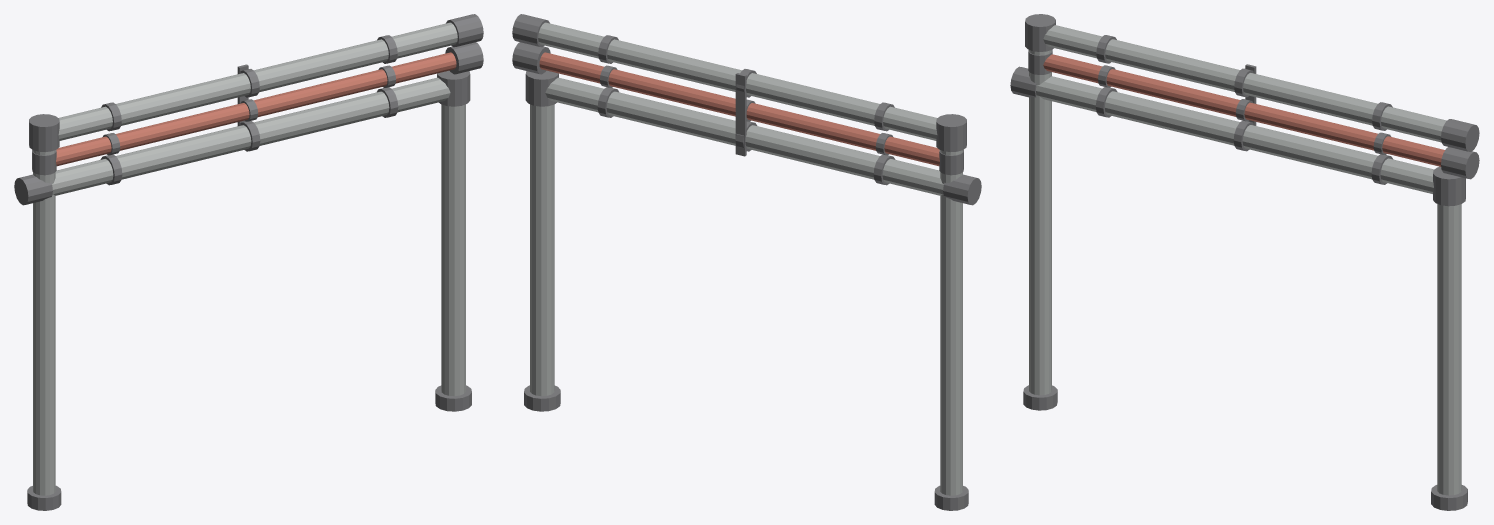
Rendered from dm_wallpipebend.glb.
3 views of the same model, side by side, from view 1: azimuth 30°, elevation 25°; view 2: azimuth 150°, elevation 25°; view 3: azimuth 330°, elevation 25° (orthographic).
Visible parts, largest first — view 1: dm_wallpipebend; view 2: dm_wallpipebend; view 3: dm_wallpipebend.
Part boxes in pixels (left/top/right/bottom): dm_wallpipebend: left=14, top=14, right=483, bottom=510; dm_wallpipebend: left=512, top=14, right=981, bottom=510; dm_wallpipebend: left=1010, top=14, right=1479, bottom=510.
Size of the model in its own units: 2.97 by 2.39 by 0.21.
